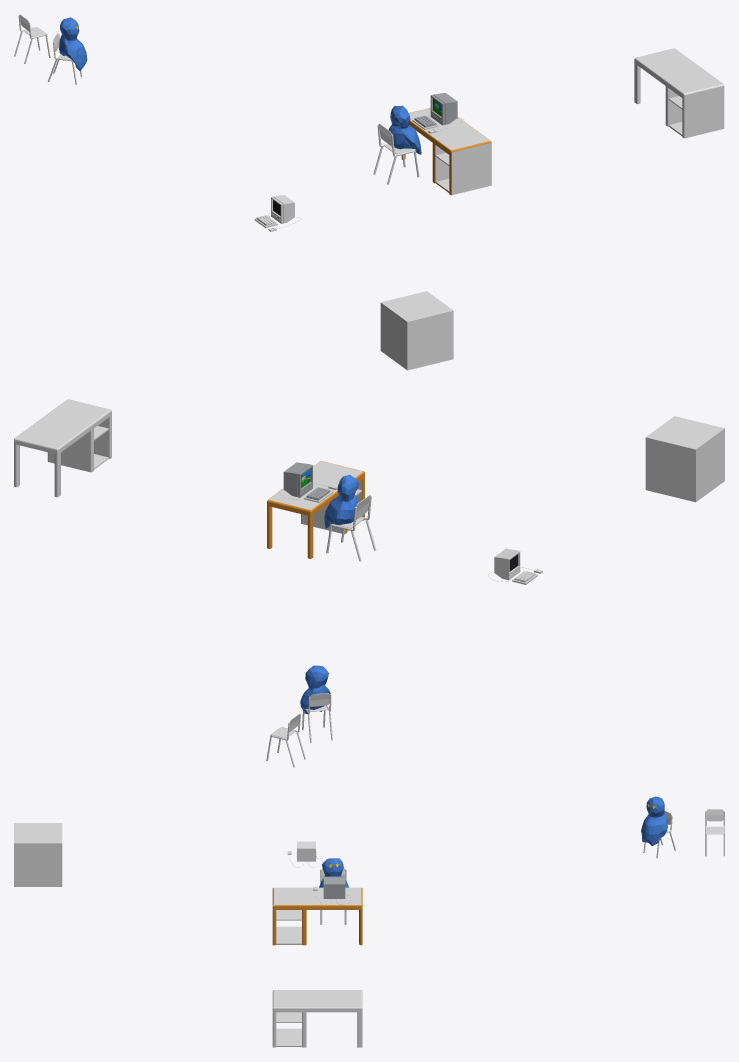
The model's file is desk.glb.
3 renders of one model, top to bottom at view 1: azimuth 30°, elevation 25°; view 2: azimuth 150°, elevation 25°; view 3: azimuth 270°, elevation 25°, orthographic. The views are drawn at different scales.
Parts seen in each view (by area): view 1: Cube.002, Cube.001, Cube, Icosphere, Icosphere.001, Cube.006, Cylinder.002, Cube.005; view 2: Cube.001, Cube.002, Cube, Icosphere, Cube.006, Cylinder.002, Icosphere.001, Cube.005, Cylinder.003, Cylinder.001; view 3: Cube.002, Cube.001, Cube, Icosphere.001, Cylinder.001, Cube.006, Icosphere.
Boxes of the visible parts, bbox=[...] form: Cube.002: bbox=[634, 48, 724, 138]; Cube.001: bbox=[380, 291, 453, 370]; Cube: bbox=[401, 108, 491, 195]; Icosphere: bbox=[388, 105, 421, 154]; Icosphere.001: bbox=[59, 17, 87, 71]; Cube.006: bbox=[430, 93, 457, 125]; Cylinder.002: bbox=[373, 123, 419, 184]; Cube.005: bbox=[271, 195, 294, 223]; Cube.001: bbox=[645, 416, 724, 502]; Cube.002: bbox=[14, 399, 111, 497]; Cube: bbox=[267, 461, 364, 558]; Icosphere: bbox=[324, 475, 358, 528]; Cube.006: bbox=[283, 462, 312, 497]; Cylinder.002: bbox=[326, 495, 376, 561]; Icosphere.001: bbox=[300, 665, 330, 713]; Cube.005: bbox=[494, 548, 520, 580]; Cylinder.003: bbox=[302, 693, 332, 742]; Cylinder.001: bbox=[266, 713, 305, 767]; Cube.002: bbox=[272, 990, 362, 1047]; Cube.001: bbox=[14, 823, 62, 886]; Cube: bbox=[272, 887, 362, 945]; Icosphere.001: bbox=[641, 796, 667, 845]; Cylinder.001: bbox=[705, 809, 724, 856]; Cube.006: bbox=[323, 876, 345, 898]; Icosphere: bbox=[319, 858, 348, 887].
Size of the model in its own units: 19.89 by 3.82 by 29.5.
